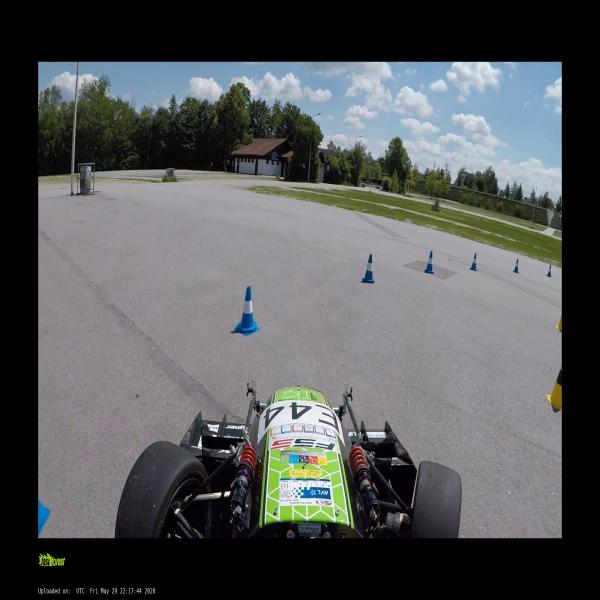blue_cone: (235, 288, 260, 335), (362, 254, 375, 284), (424, 252, 434, 274), (470, 253, 478, 272), (513, 258, 519, 274), (546, 265, 552, 278)
yellow_cone: (546, 357, 562, 412), (556, 304, 562, 334)
